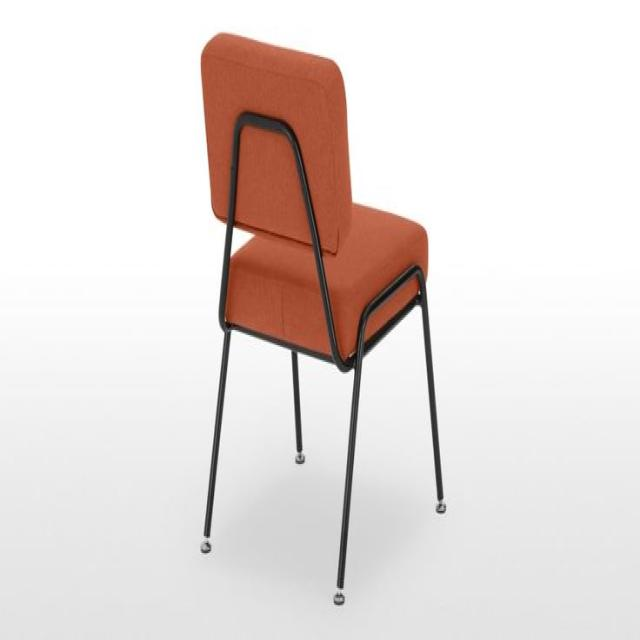obstacle: (198, 28, 446, 605)
